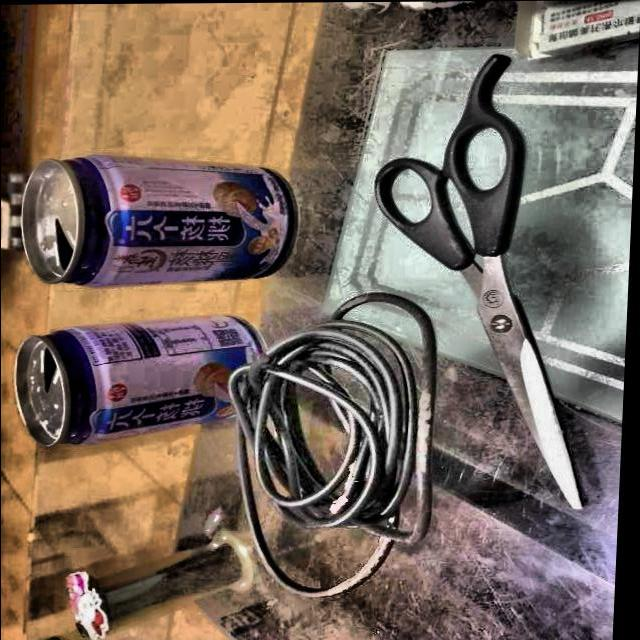Aluminum Can: (8, 148, 305, 294), (2, 308, 268, 446)
